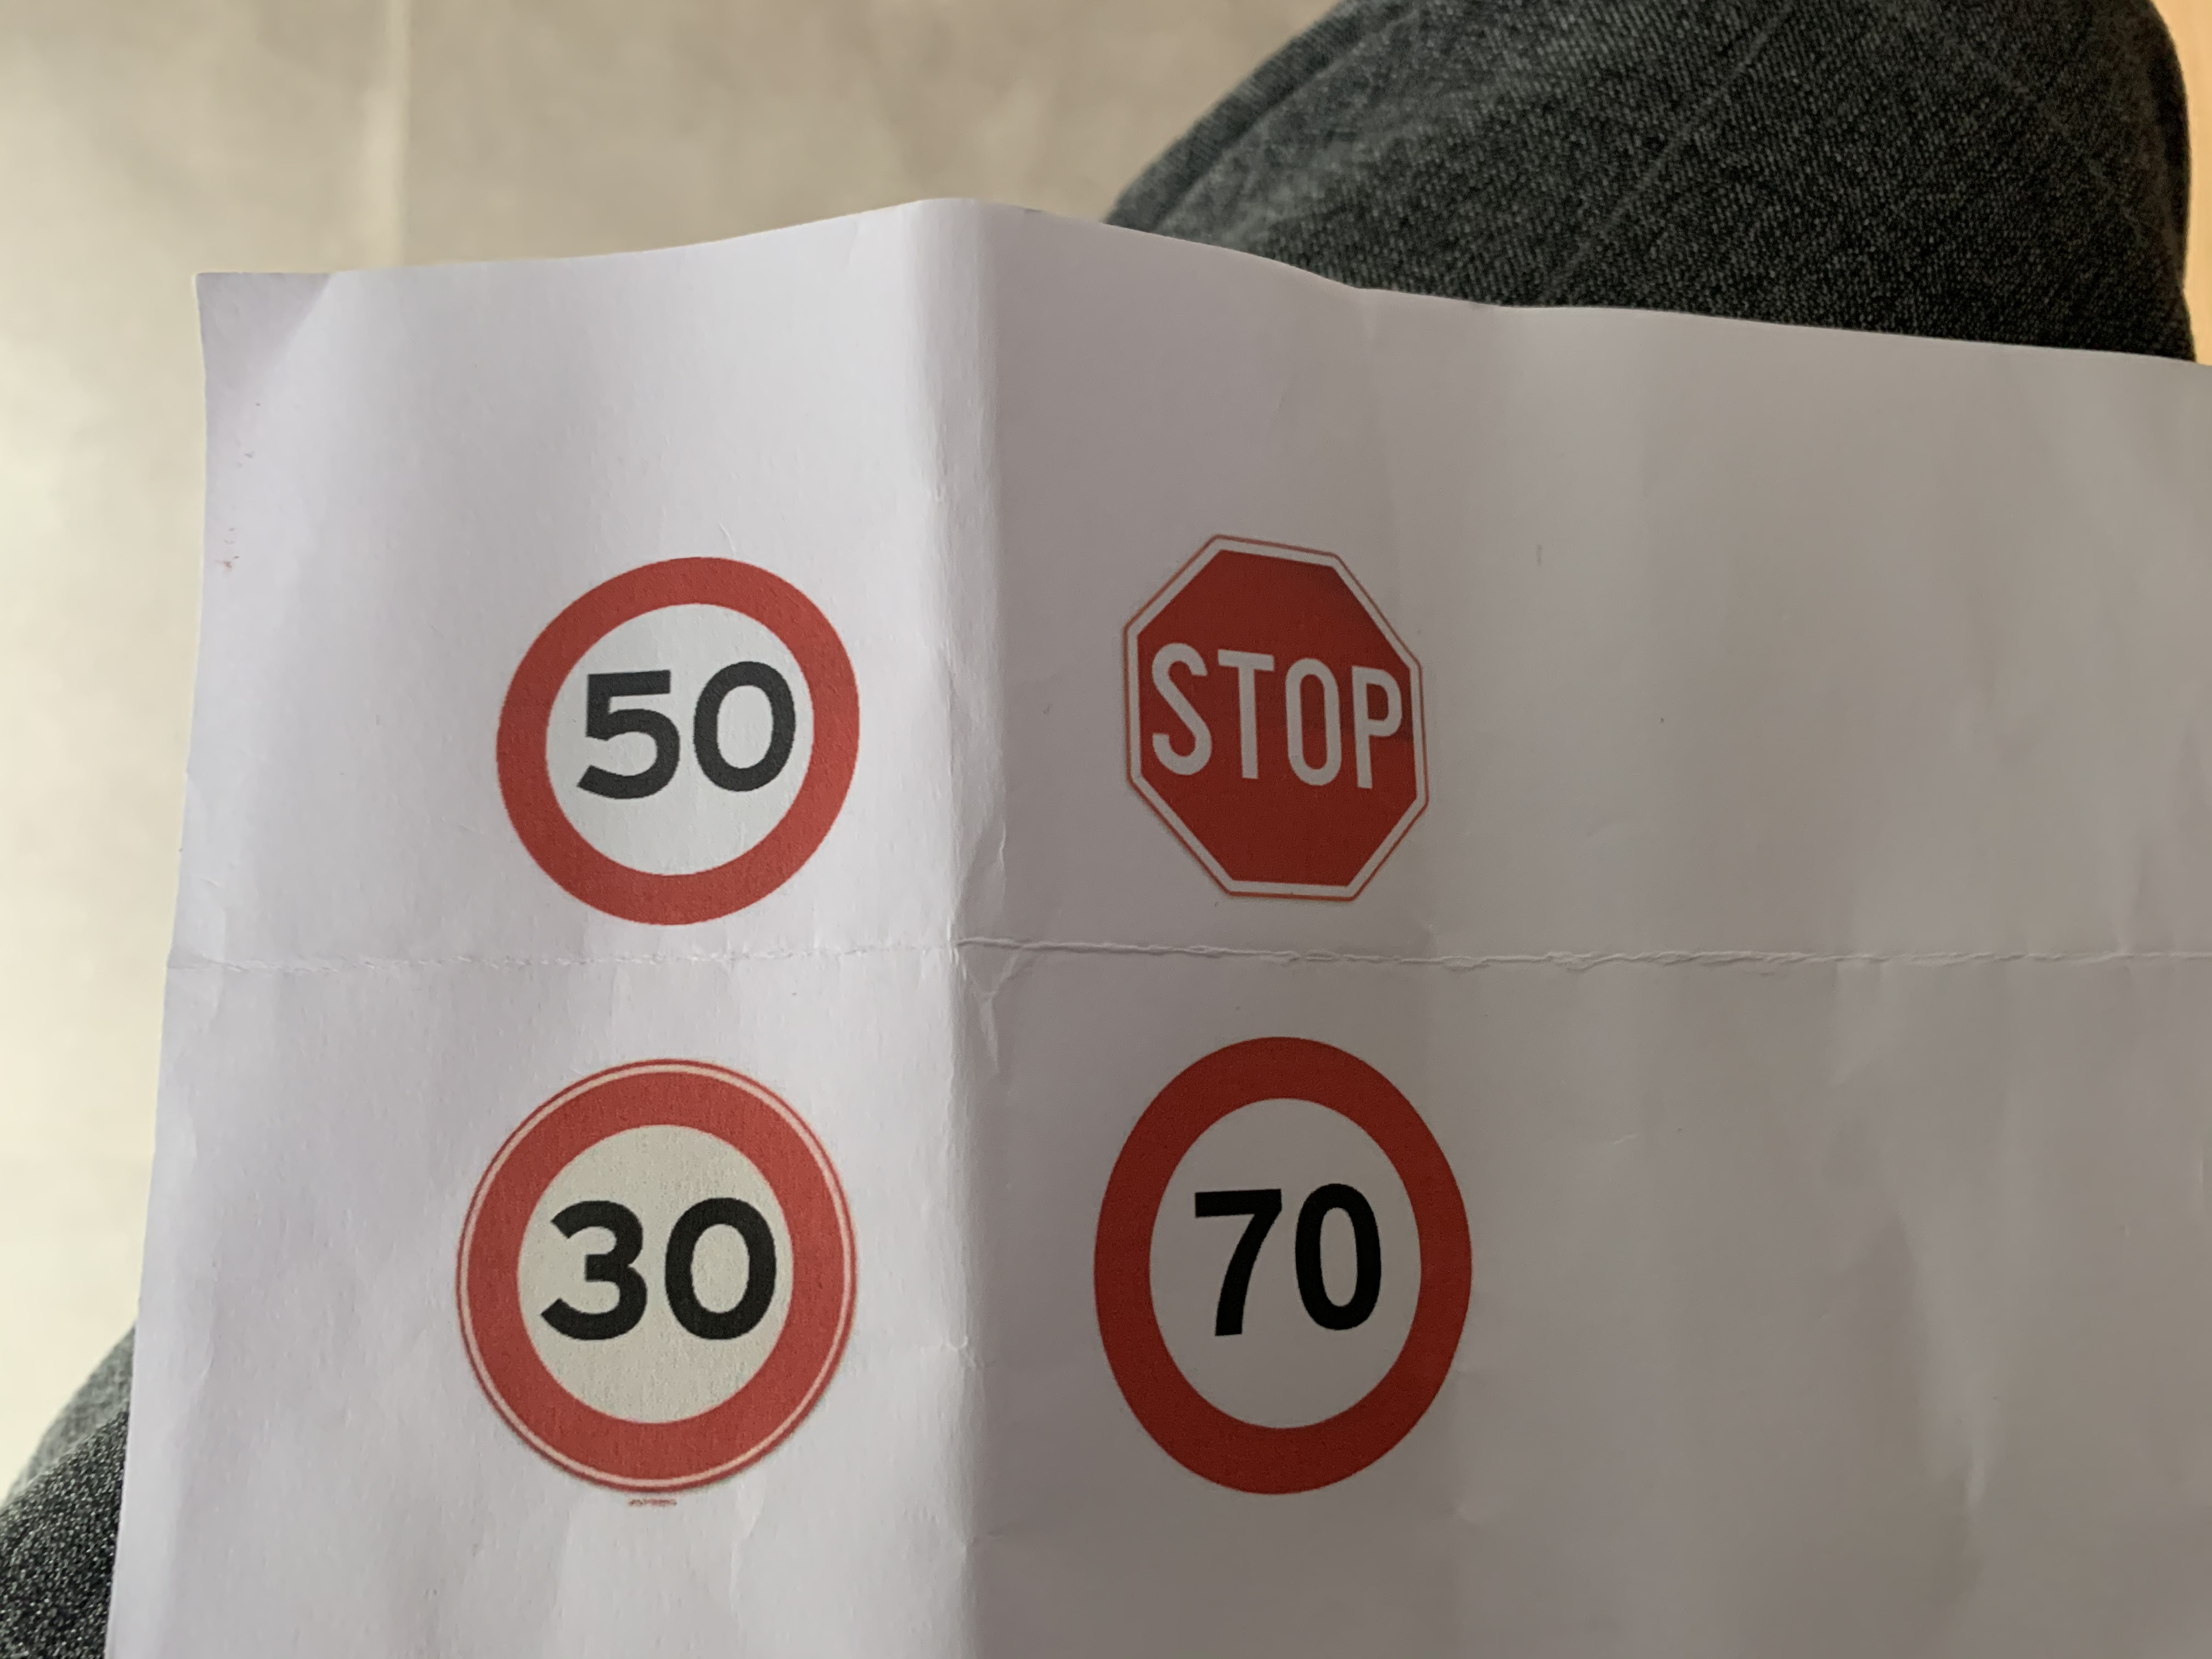30-limit: (432, 1063, 869, 1490)
50-limit: (495, 556, 871, 929)
70-limit: (1085, 1026, 1475, 1504)
stop-bord: (1101, 518, 1444, 911)
